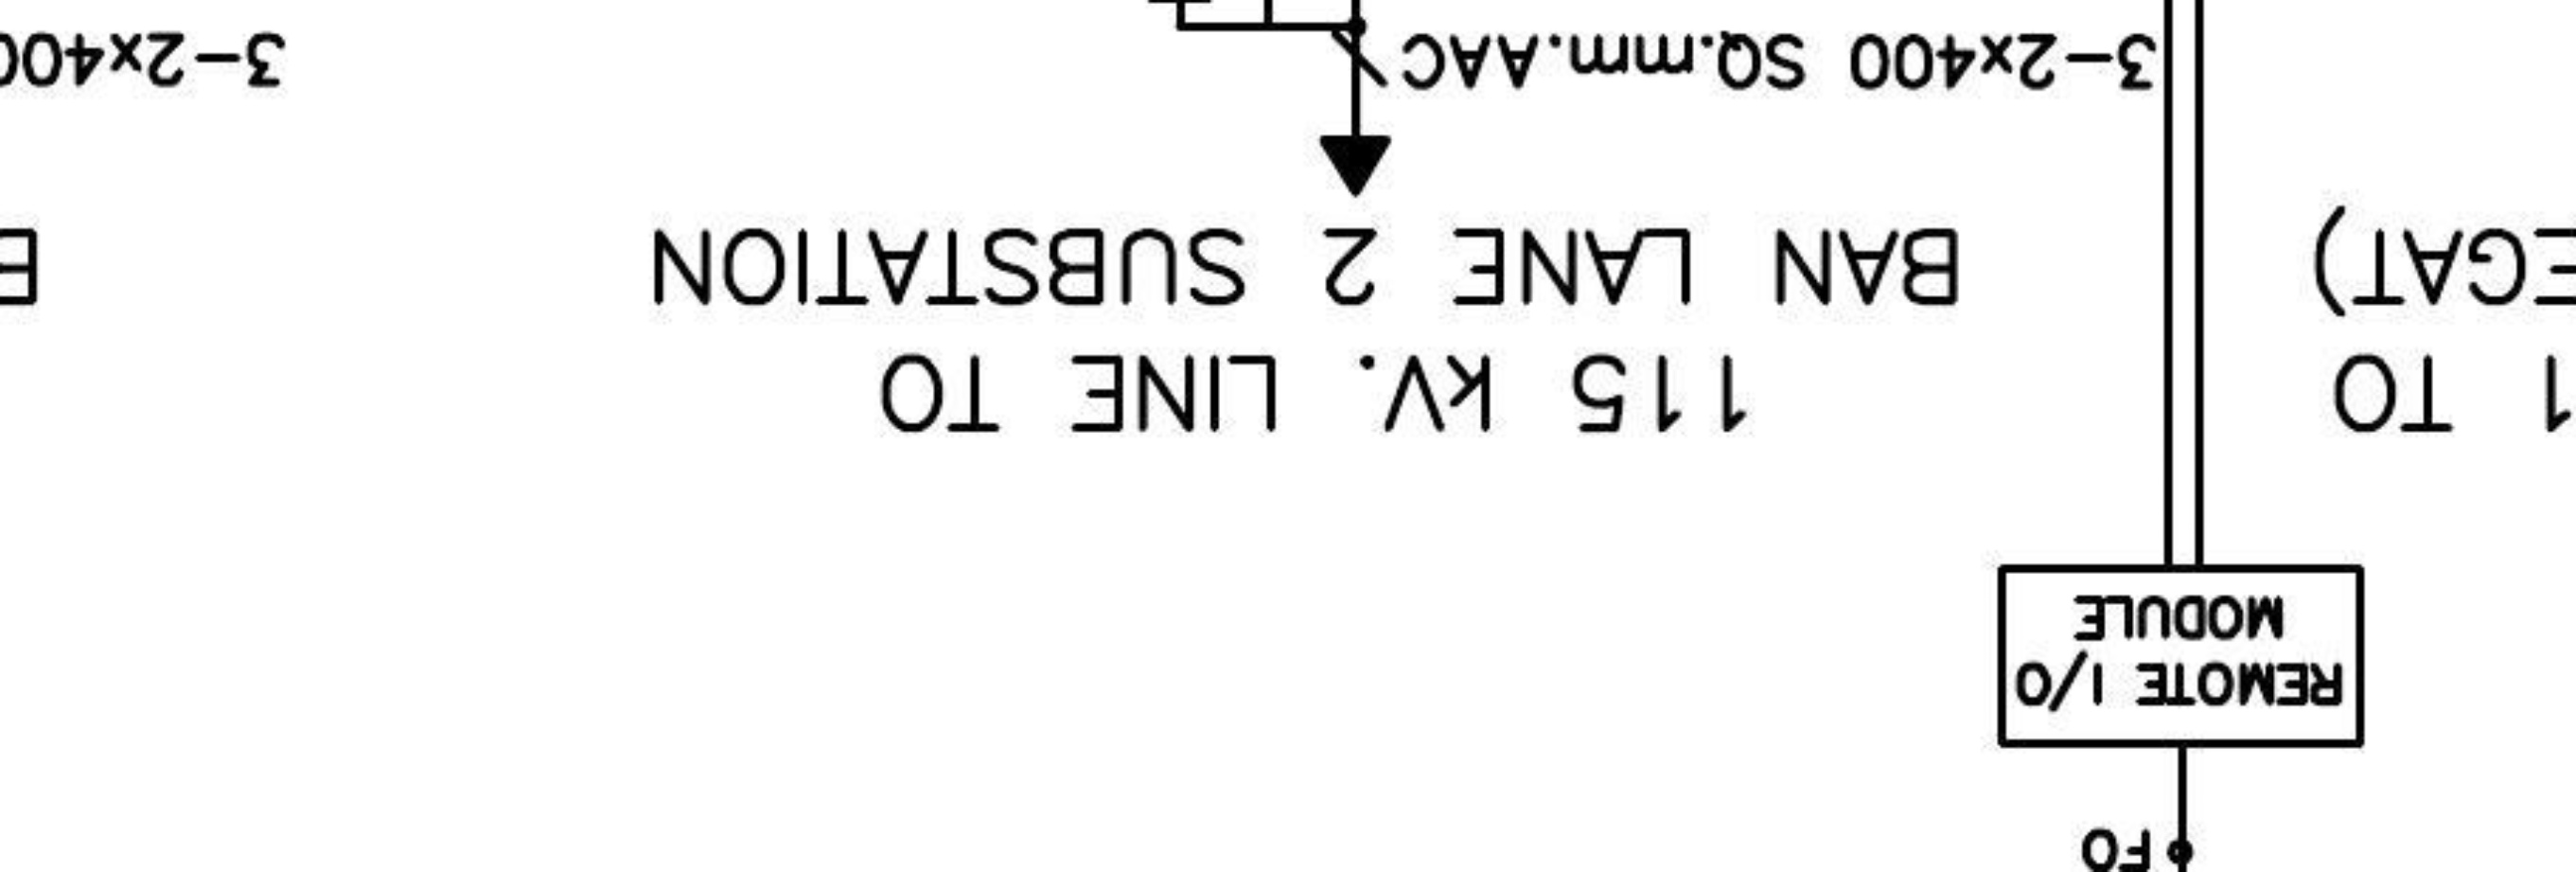remote_io_module: (1998, 563, 2367, 749)
